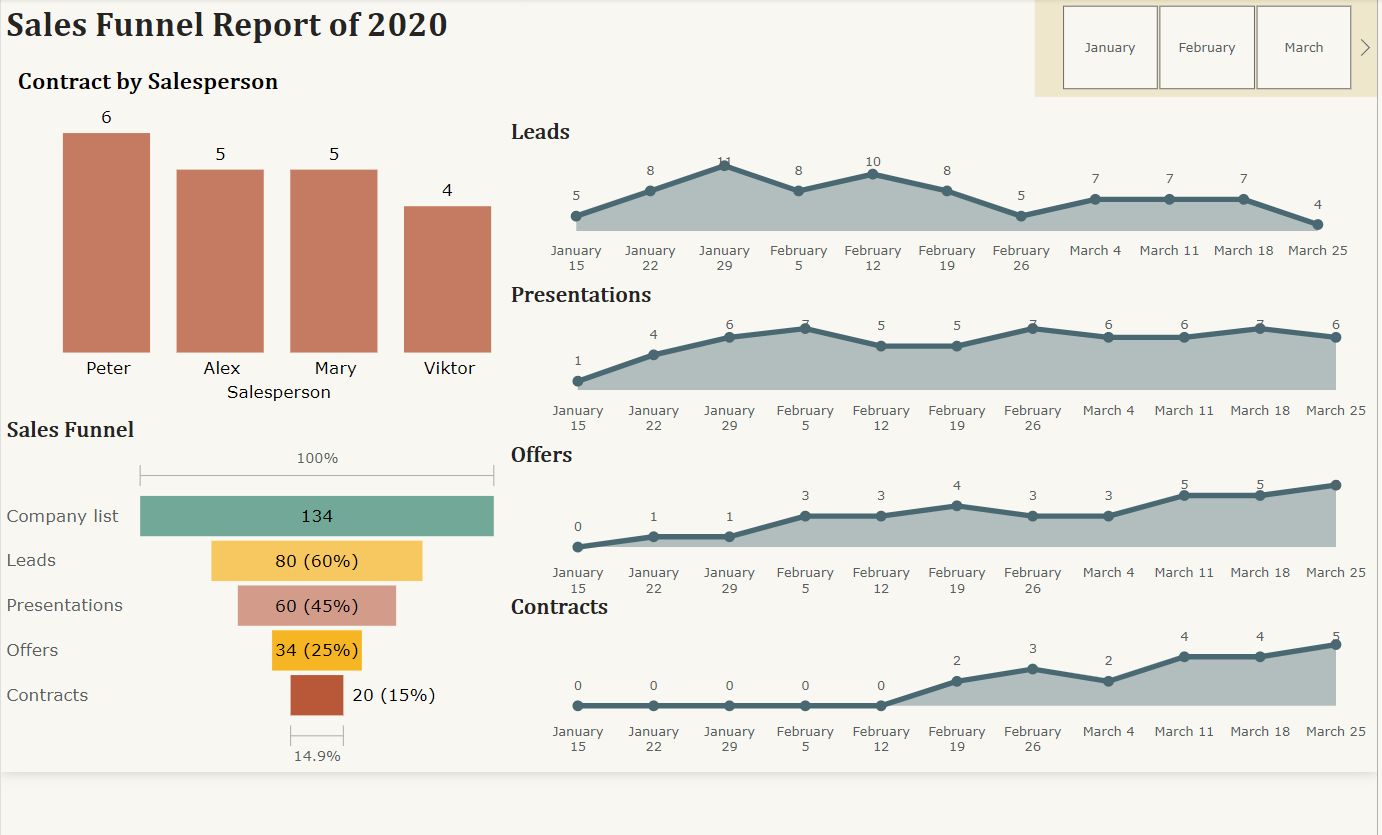

What the dashboard file says about the page in this screenshot:
{"tool":"powerbi","page":{"name":"Page 1","canvas":[1280,720],"ordinal":0},"visuals":[{"type":"clusteredColumnChart","title":"Contract by Salesperson","fields":{"Y":["Page 1.Contract"],"Category":["Page 1.Salesperson"]},"box":[10.5,65.1,496.5,315.1],"z":0},{"type":"funnel","title":"Sales Funnel","fields":{"Y":["Page 1.Company list","Page 1.Lead","Page 1.Presetation","Page 1.Offer","Page 1.Contract"]},"box":[0,389.5,468.6,330.2],"z":1000},{"type":"areaChart","title":"Leads","fields":{"Category":["Page 1.Date"],"Y":["Page 1.Lead"]},"box":[468.6,112.8,794.2,151.2],"z":2000},{"type":"areaChart","title":"Presentations","fields":{"Category":["Page 1.Date"],"Y":["Page 1.Presetation"]},"box":[468.6,264,811.6,148.8],"z":3000},{"type":"areaChart","title":"Offers","fields":{"Category":["Page 1.Date"],"Y":["Page 1.Offer"]},"box":[468.6,412.8,811.6,151.2],"z":4000},{"type":"areaChart","title":"Contracts","fields":{"Category":["Page 1.Date"],"Y":["Page 1.Contract"]},"box":[468.6,554.7,811.6,157],"z":5000},{"type":"slicer","fields":{"Values":["Page 1.Date.Variation.Date Hierarchy.Month"]},"box":[961.6,0,318.6,91.9],"z":6000},{"type":"textbox","box":[0,0,483.7,53.5],"z":7000}]}

Visuals, with their boxes on the page's 1280x720 design canvas (x1, y1, x2, y2). These are canvas units, not pixel positions in the 1382x835 screenshot, which may show the page scaled, cropped or inside an application window:
"Contract by Salesperson" clusteredColumnChart: Rect(10, 65, 507, 380)
"Sales Funnel" funnel: Rect(0, 390, 469, 720)
"Leads" areaChart: Rect(469, 113, 1263, 264)
"Presentations" areaChart: Rect(469, 264, 1280, 413)
"Offers" areaChart: Rect(469, 413, 1280, 564)
"Contracts" areaChart: Rect(469, 555, 1280, 712)
slicer - Page 1.Date.Variation.Date Hierarchy.Month: Rect(962, 0, 1280, 92)
textbox: Rect(0, 0, 484, 54)
